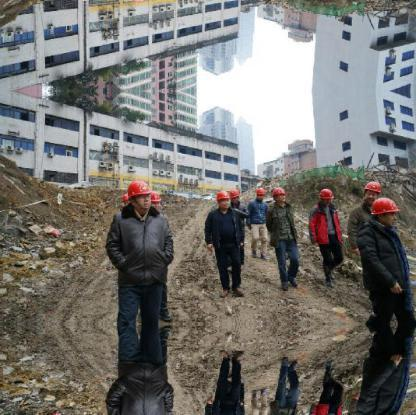helmet: (367, 196, 402, 217), (123, 178, 153, 201), (366, 178, 383, 195), (270, 185, 288, 199), (317, 186, 335, 200), (151, 190, 164, 204), (214, 190, 229, 201), (228, 189, 242, 200), (118, 191, 129, 205), (256, 188, 265, 197)
